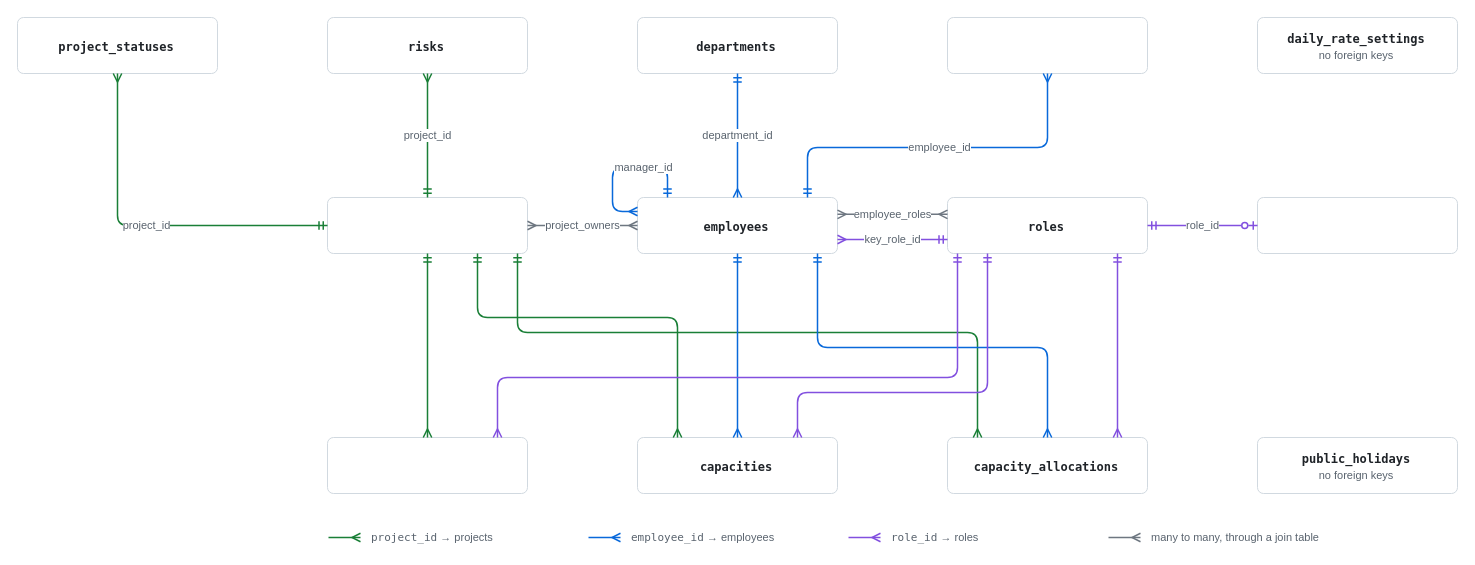
The diagram is 1475 pixels wide and 565 high, and some of its shapes have lost their labels. The box of each missing label's shape, as (x1, y1, x2, y2) in pixels:
absences: (946, 16, 1148, 74)
daily_rates: (1256, 196, 1458, 254)
projects: (326, 196, 528, 254)
required_capacities: (326, 436, 528, 494)
